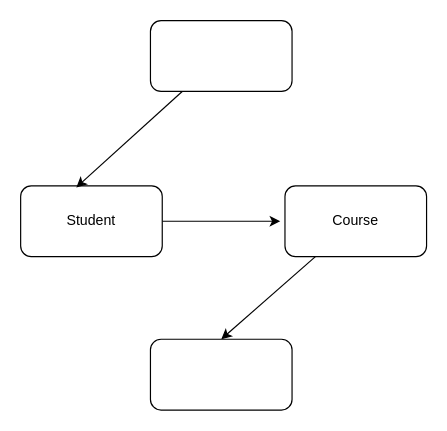
Some shapes in this 447 by 431 pixel diagram are drawn without their labels. Here are the shapes that lost their labels. From the top down, the centre of each, then its label:
(x=220, y=55): Users
(x=220, y=374): Enrollment Inscripciones
